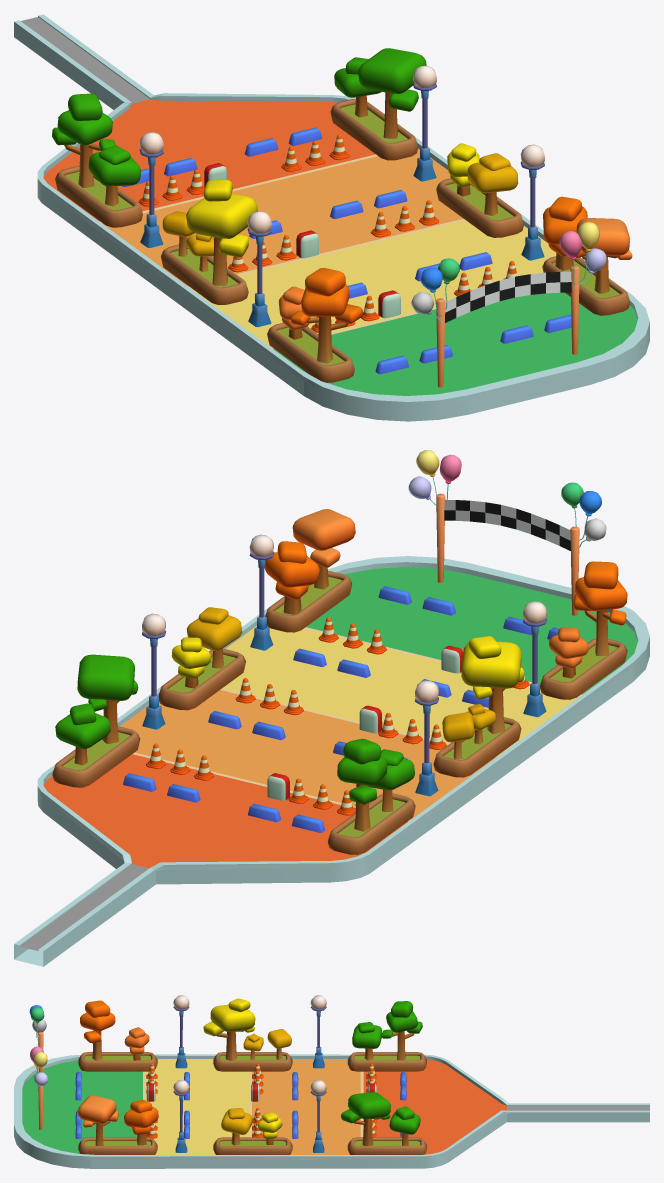
The model's file is finish (2).fbx.
3 views of the same model, one above another, from view 1: azimuth 30°, elevation 25°; view 2: azimuth 150°, elevation 25°; view 3: azimuth 270°, elevation 25° (orthographic). The views are drawn at different scales.
Visible parts, largest first — view 1: finish.059; view 2: finish.059; view 3: finish.059.
Boxes of the visible parts, box(x1,y1,x2,y2) form: finish.059: box(14, 14, 649, 421); finish.059: box(14, 450, 649, 966); finish.059: box(14, 995, 649, 1168).
Size of the model in its own units: 2341 by 935 by 5975.
